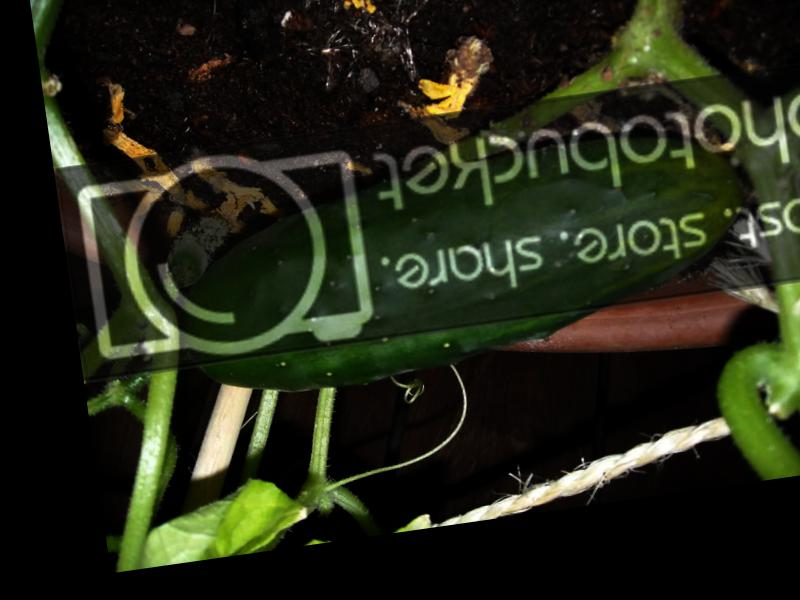Cucumber: (165, 115, 760, 405)
